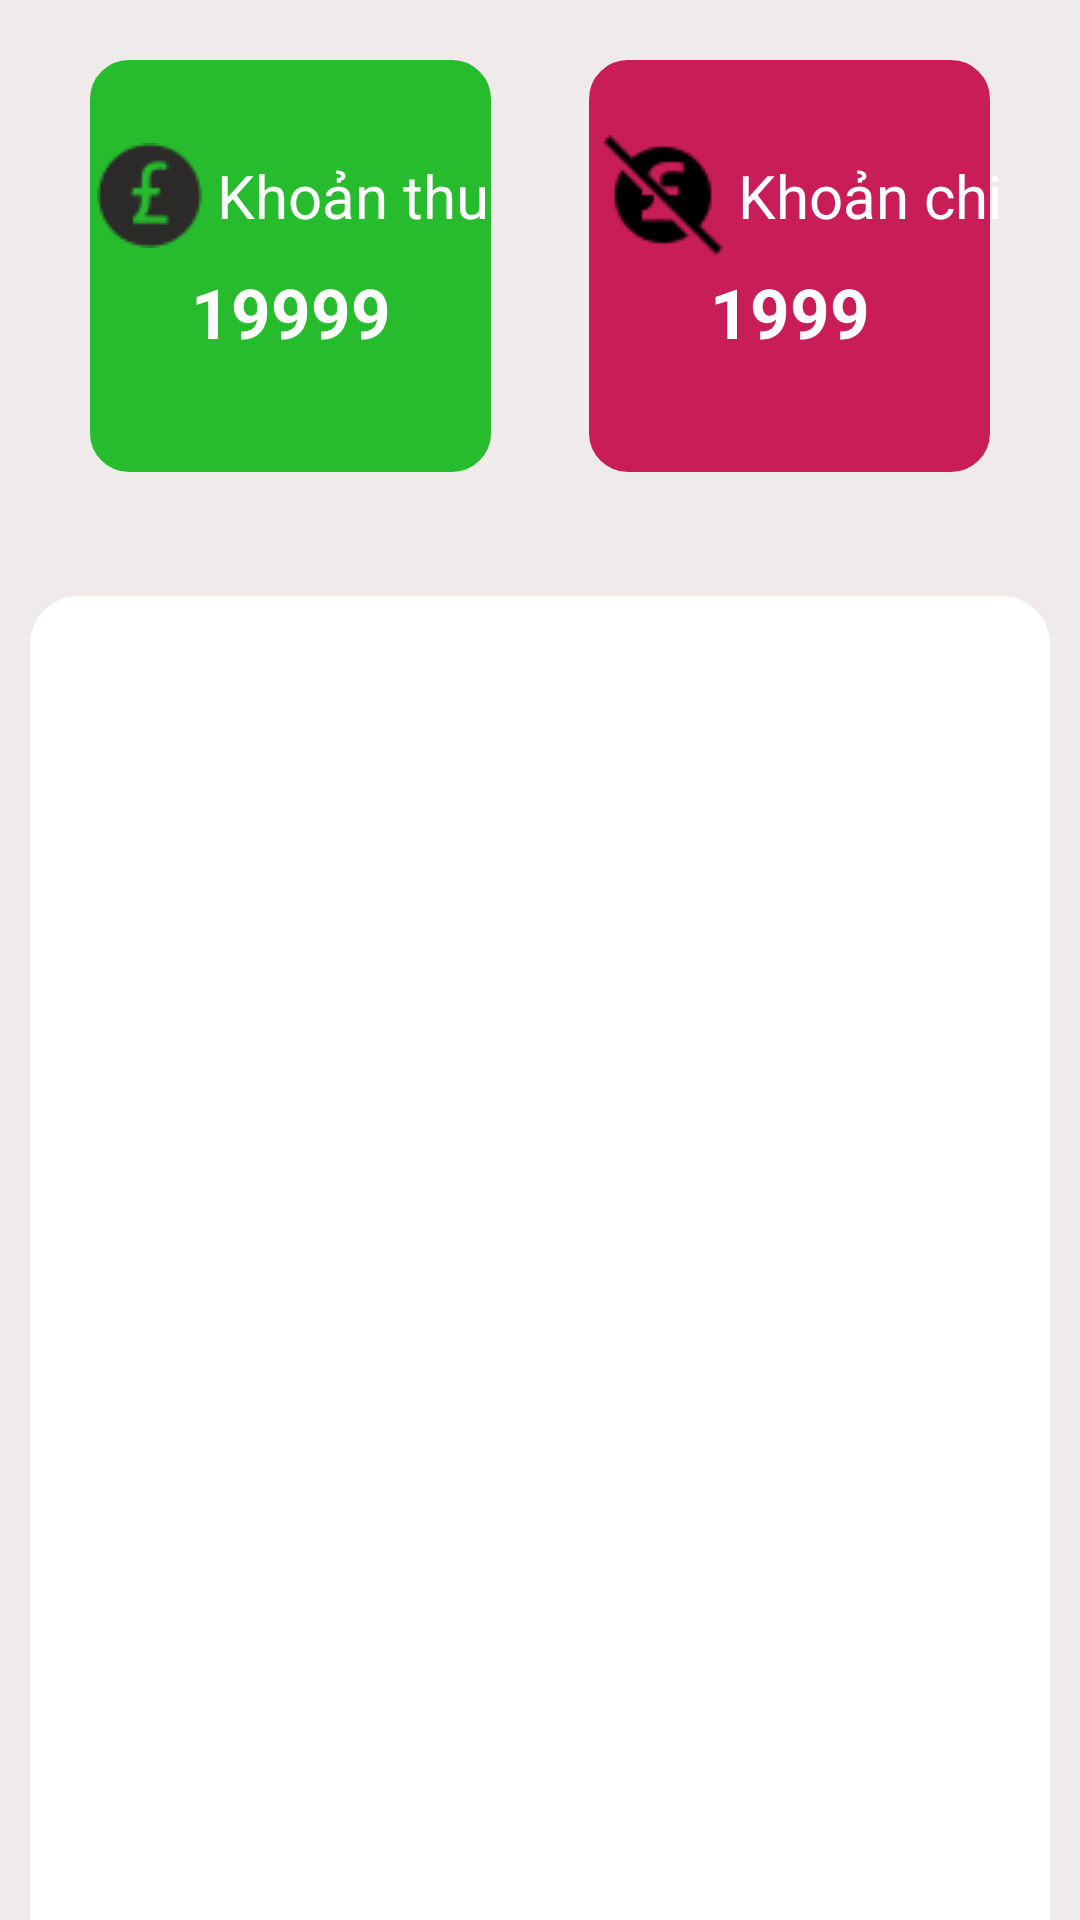

Screen size 1080px×1920px. Icon name, then its center in pixels as (x=x, y=y):
coin: (x=149, y=195)
uncoin: (x=663, y=195)
